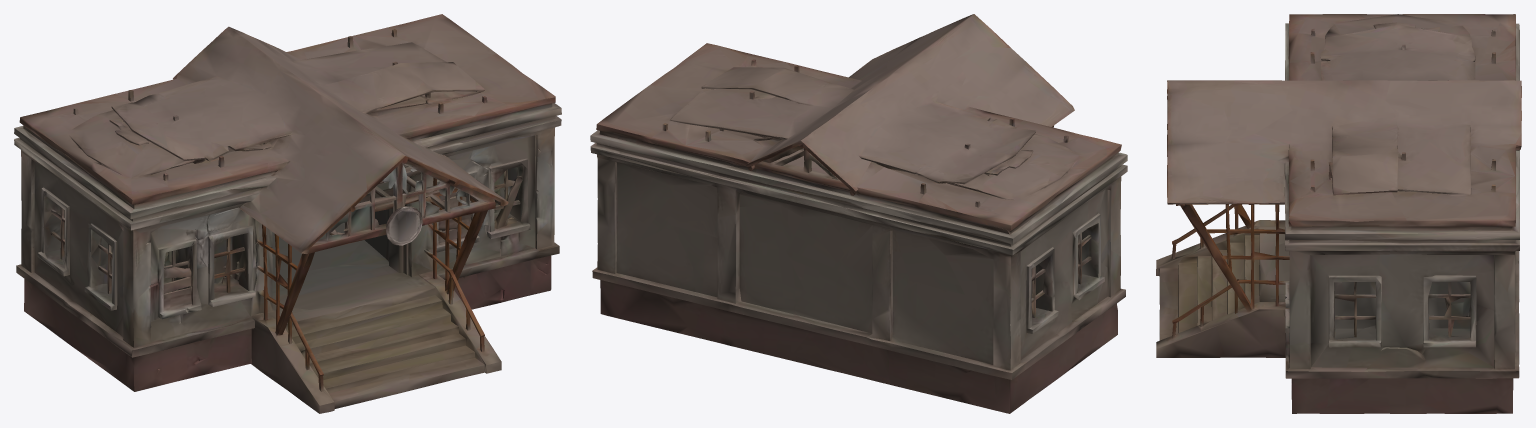
The model's file is clinic_idle.glb.
3 renders of one model, left to right at view 1: azimuth 30°, elevation 25°; view 2: azimuth 150°, elevation 25°; view 3: azimuth 270°, elevation 25°, orthographic. The views are drawn at different scales.
Visible parts, largest first — view 1: tripo_node_3e8d9e37-6ad1-4bfc-b305-edbd08ee05ef; view 2: tripo_node_3e8d9e37-6ad1-4bfc-b305-edbd08ee05ef; view 3: tripo_node_3e8d9e37-6ad1-4bfc-b305-edbd08ee05ef.
Part boxes in pixels (x1,y1,x2,y2): tripo_node_3e8d9e37-6ad1-4bfc-b305-edbd08ee05ef: (14, 14, 561, 413); tripo_node_3e8d9e37-6ad1-4bfc-b305-edbd08ee05ef: (590, 14, 1127, 413); tripo_node_3e8d9e37-6ad1-4bfc-b305-edbd08ee05ef: (1156, 14, 1521, 413).
Bounding box in the file's own units: 11.99 × 6.19 × 8.79.
Materials: 1 (1 with a texture image).
